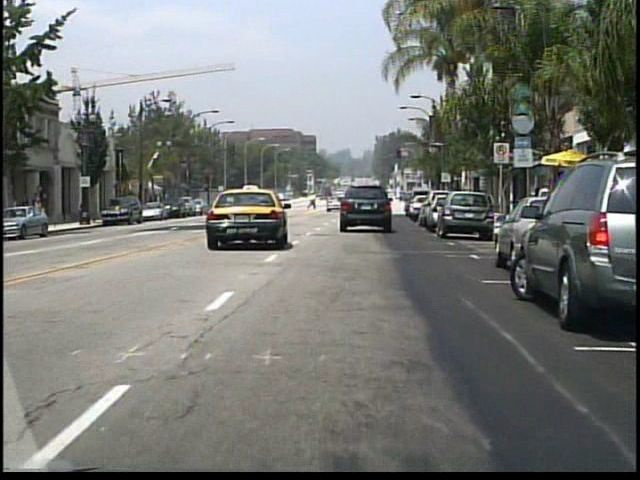person: (35, 195, 47, 226), (306, 192, 316, 212), (311, 191, 321, 210)
